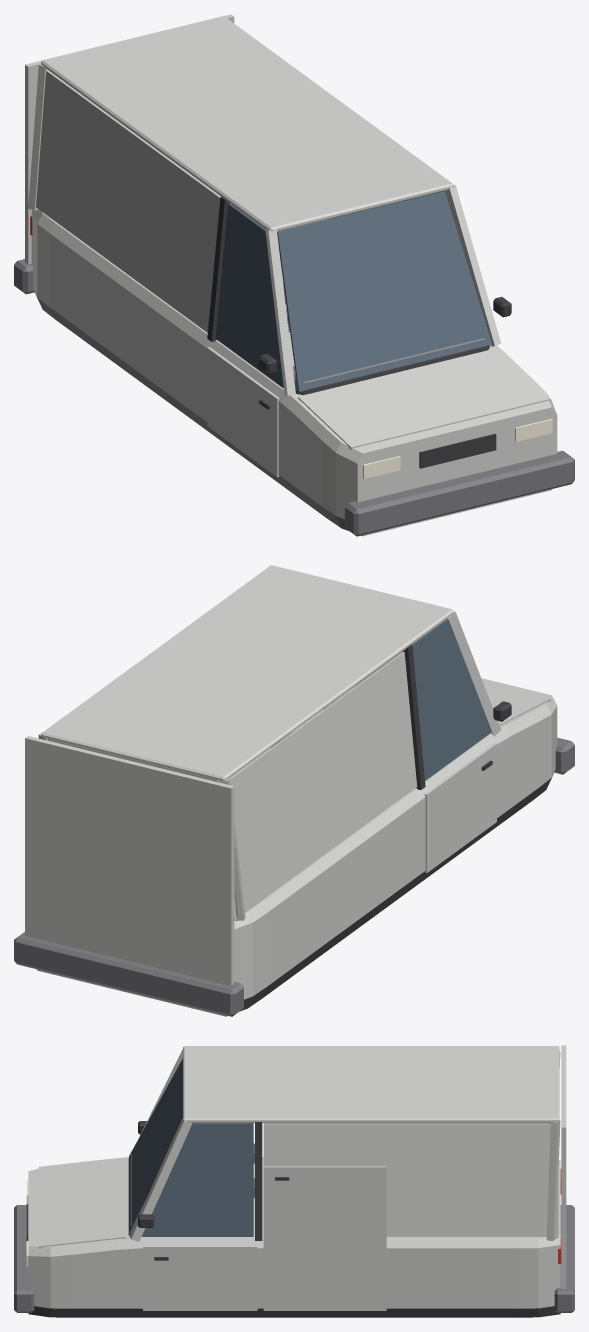
The model's file is van_panel.glb.
The picture shows the model from 3 angles, top to bottom: view 1: azimuth 30°, elevation 25°; view 2: azimuth 150°, elevation 25°; view 3: azimuth 270°, elevation 25°; orthographic projection. The views are drawn at different scales.
Parts seen in each view (by area): view 1: roof, body, win_front, panel_rl, bonnet, bumper_f, win_fl, door_fl, pillar_al, pillar_ar, boot, grille (+3 smaller); view 2: roof, boot, body, panel_rl, win_fl, bumper_r, door_fl, pillar_bl, pillar_al, bonnet, pillar_cl, bumper_f; view 3: roof, body, panel_rr, door_rr, win_fr, door_fr, bonnet, win_front, bumper_f, boot, pillar_ar, bumper_r (+2 smaller).
Boxes of the visible parts, box(x1,y1,x2,y2) form: roof: box(41, 16, 453, 231); body: box(31, 169, 557, 536); win_front: box(277, 191, 492, 392); panel_rl: box(36, 70, 220, 332); bonnet: box(298, 348, 550, 450); bumper_f: box(345, 450, 574, 536); win_fl: box(215, 203, 283, 388); door_fl: box(207, 347, 279, 477); pillar_al: box(265, 229, 295, 395); pillar_ar: box(444, 185, 501, 346); boot: box(25, 14, 234, 264); grille: box(419, 433, 496, 468); roof: box(41, 565, 453, 781); boot: box(25, 736, 234, 985); body: box(37, 678, 557, 1016); panel_rl: box(230, 652, 417, 917); win_fl: box(412, 619, 491, 780); bumper_r: box(14, 932, 243, 1016); door_fl: box(424, 743, 496, 873); pillar_bl: box(399, 645, 425, 789); pillar_al: box(444, 611, 501, 736); bonnet: box(483, 682, 550, 725); pillar_cl: box(217, 777, 245, 920); bumper_f: box(554, 737, 574, 774); roof: box(183, 1046, 559, 1122); body: box(28, 1156, 560, 1317); panel_rr: box(263, 1123, 555, 1236); door_rr: box(263, 1166, 386, 1310); win_fr: box(141, 1123, 253, 1236); door_fr: box(143, 1246, 257, 1310); bonnet: box(38, 1157, 125, 1248); win_front: box(129, 1058, 182, 1233); bumper_f: box(14, 1205, 34, 1312); boot: box(561, 1045, 566, 1288); pillar_ar: box(129, 1118, 192, 1241); bumper_r: box(554, 1205, 574, 1312).
Size of the model in its own units: 2.26 by 2.09 by 5.48.
